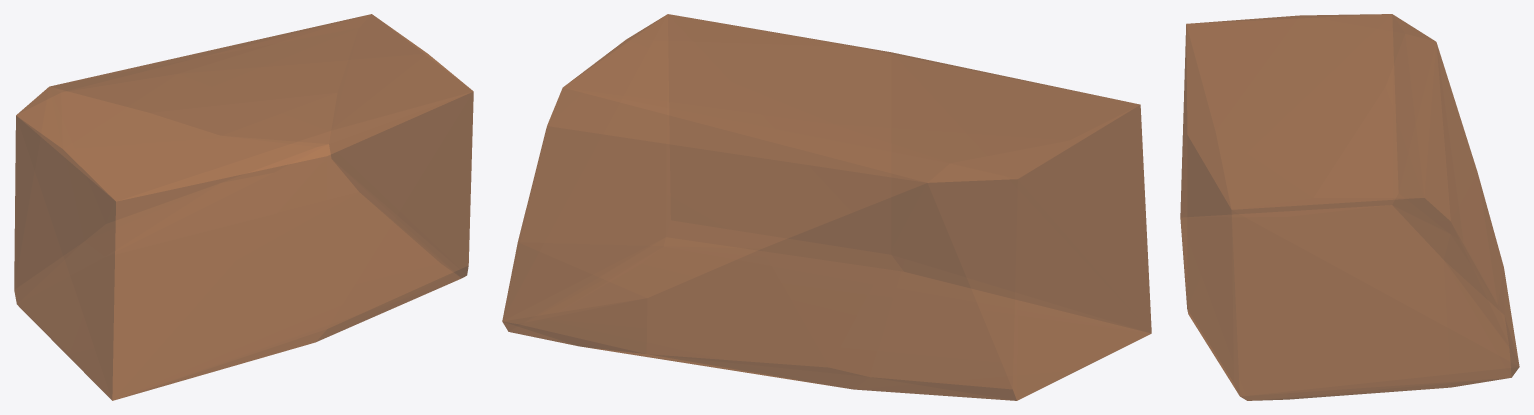
3 renders of one model, left to right at view 1: azimuth 30°, elevation 25°; view 2: azimuth 150°, elevation 25°; view 3: azimuth 270°, elevation 25°, orthographic. The views are drawn at different scales.
Visible parts, largest first — view 1: Shape_IndexedFaceSet.005_Shape_IndexedFaceSet.5540; view 2: Shape_IndexedFaceSet.005_Shape_IndexedFaceSet.5540; view 3: Shape_IndexedFaceSet.005_Shape_IndexedFaceSet.5540.
Boxes of the visible parts, x1,y1,x2,y2 form: Shape_IndexedFaceSet.005_Shape_IndexedFaceSet.5540: [14, 14, 473, 400]; Shape_IndexedFaceSet.005_Shape_IndexedFaceSet.5540: [502, 14, 1151, 400]; Shape_IndexedFaceSet.005_Shape_IndexedFaceSet.5540: [1180, 14, 1519, 400].
Size of the model in its own units: 0.2472 by 0.1294 by 0.1863.
